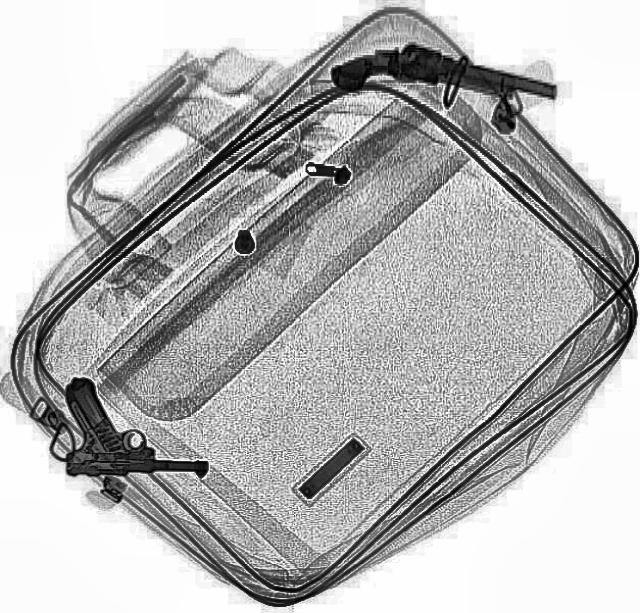Gun: (327, 26, 558, 134), (64, 376, 206, 474)
